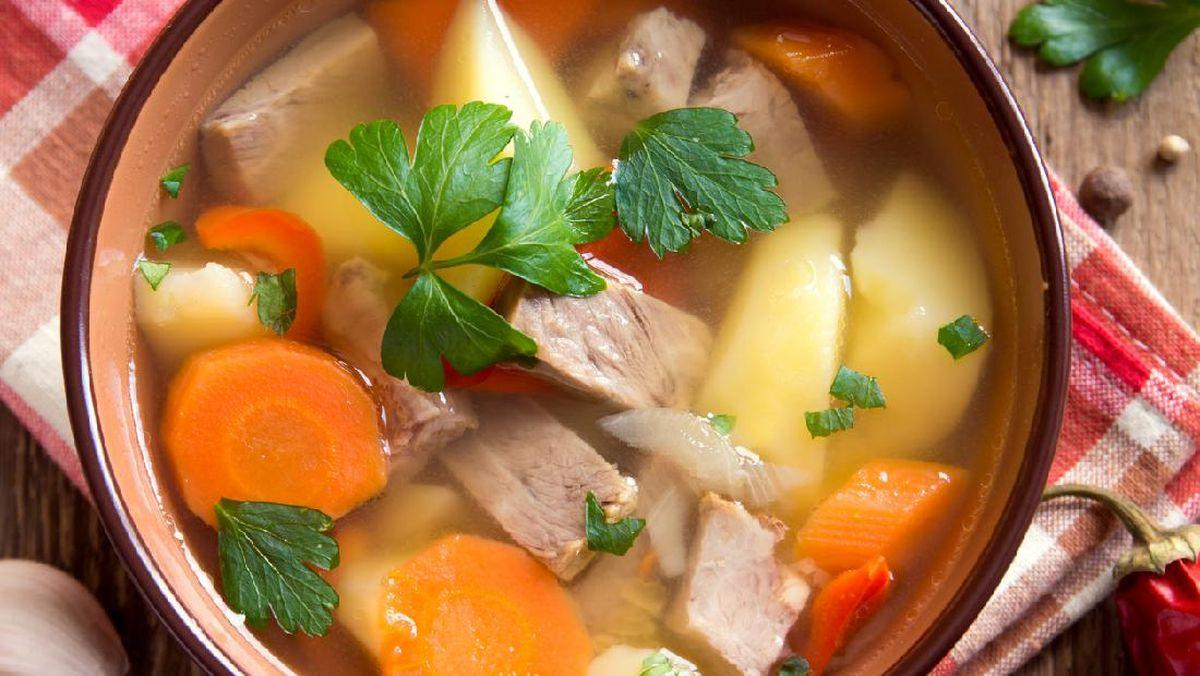buah_sayur_vitA: (183, 364, 344, 491), (417, 559, 537, 673)
daging: (535, 292, 680, 489)
